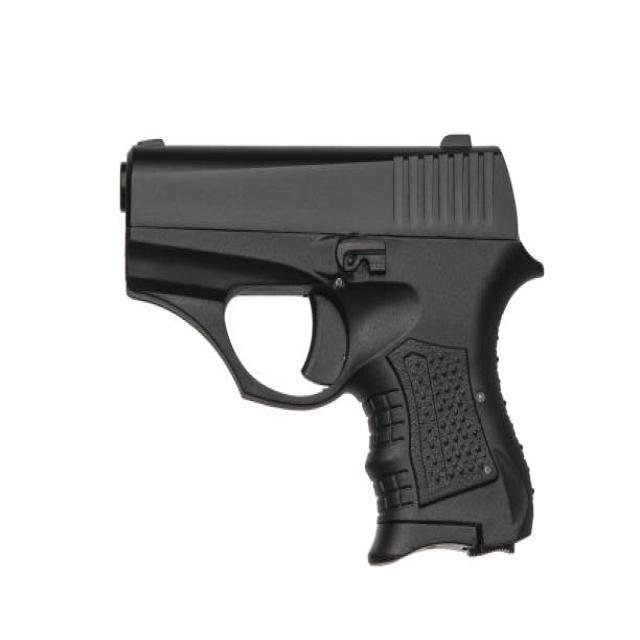pistol: (113, 125, 555, 573)
